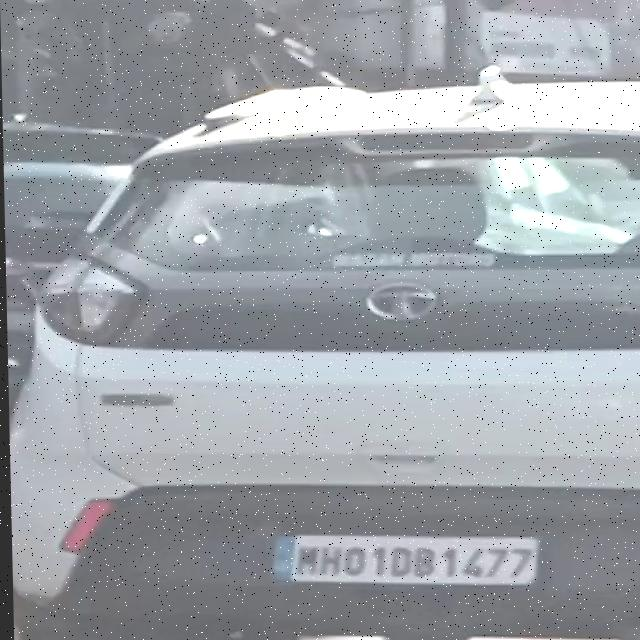plate: (275, 533, 538, 589)
